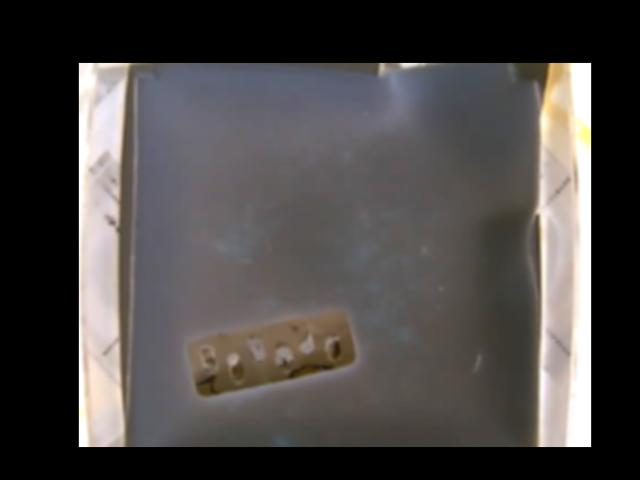Medicine: (182, 309, 356, 391)
